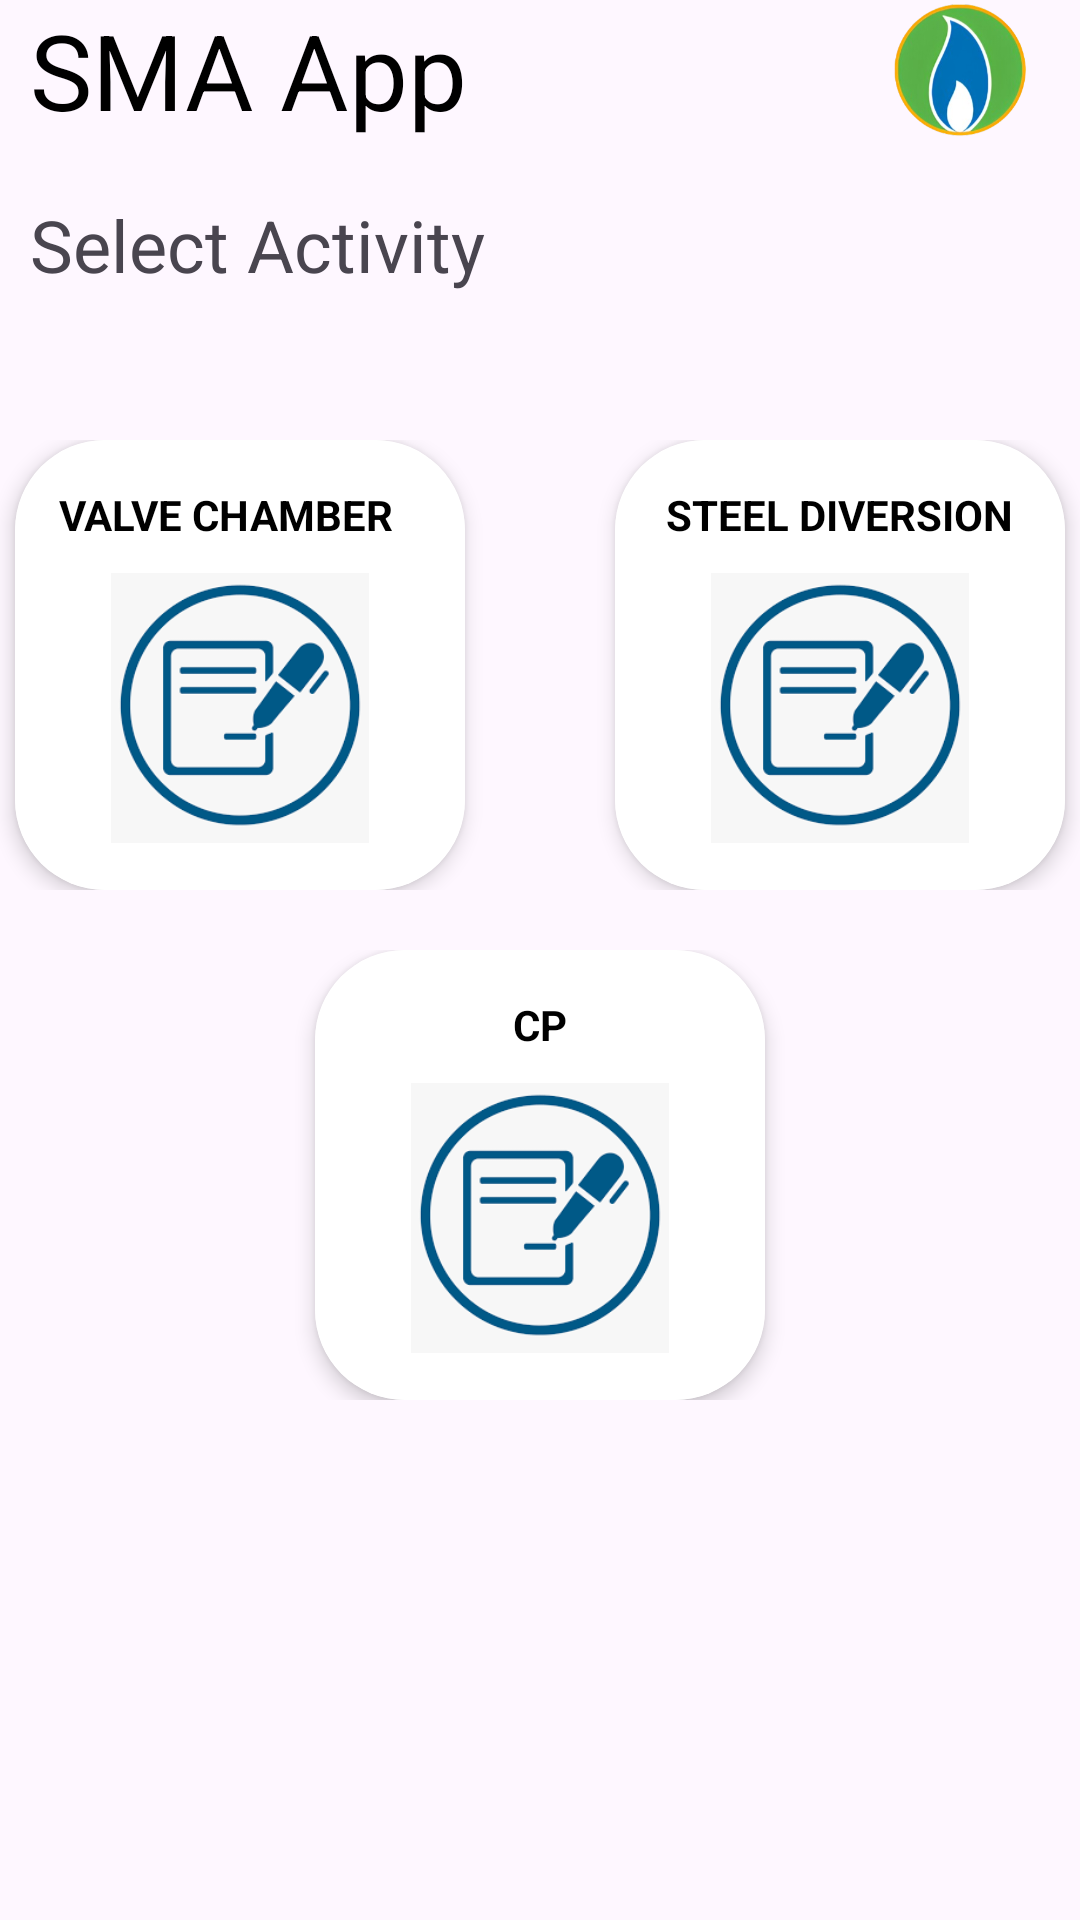

Icon click points for this 1080px×1920px phone screenshot, format (x=x, y=y):
request: (x=240, y=705), (x=840, y=705), (x=540, y=1215)
